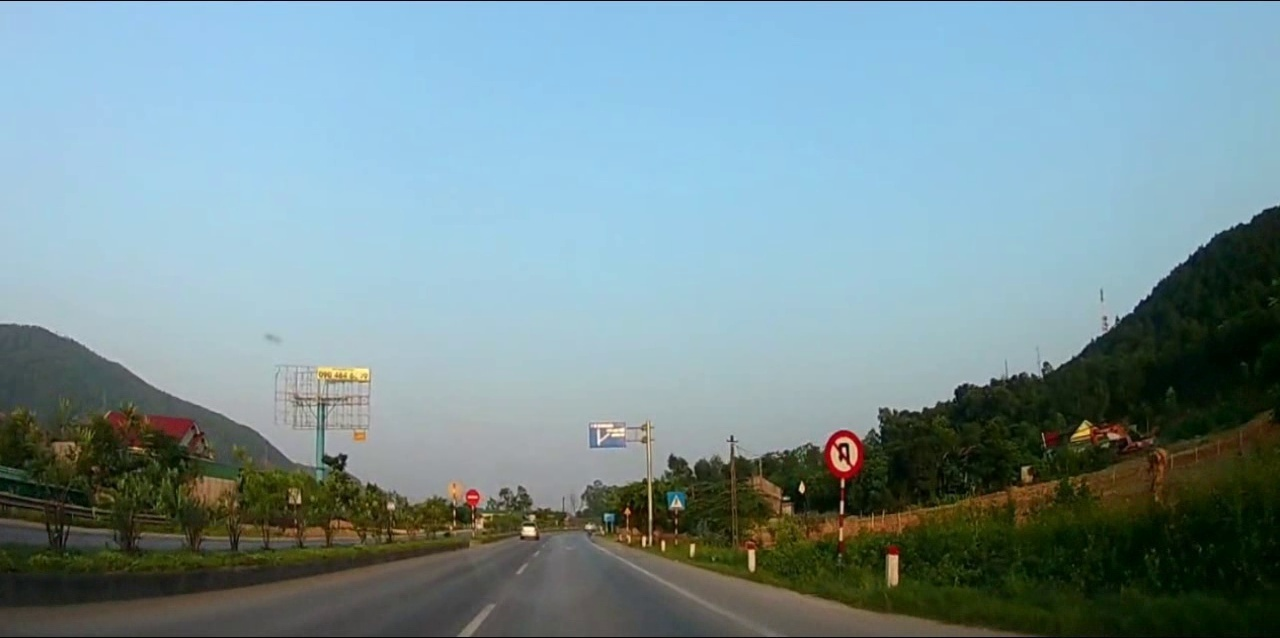Bien khac: (822, 427, 865, 479)
Cam di nguoc chieu: (464, 486, 482, 506)
Nguoi di bo: (665, 489, 685, 509)
